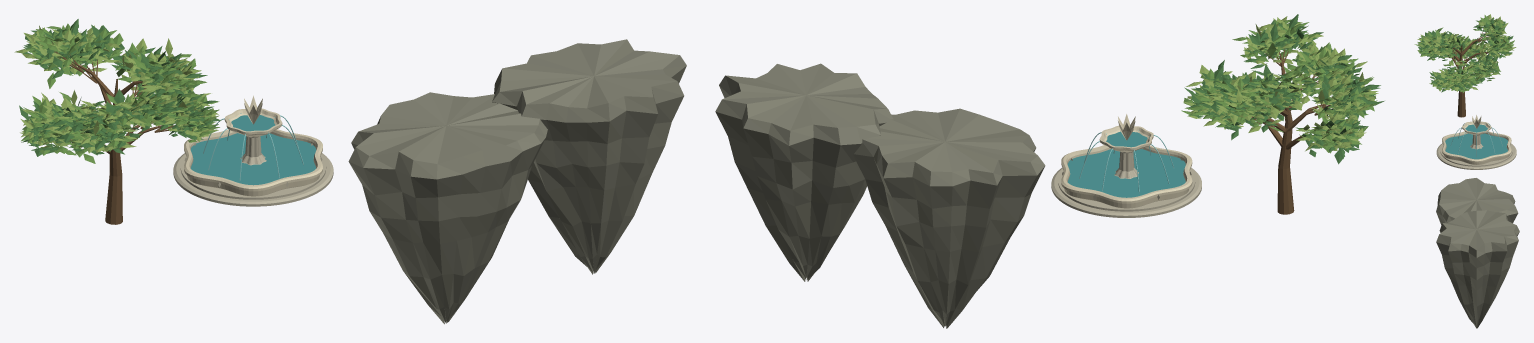
The model's file is original-world-assets.obj.
3 renders of one model, left to right at view 1: azimuth 30°, elevation 25°; view 2: azimuth 150°, elevation 25°; view 3: azimuth 270°, elevation 25°, orthographic. The views are drawn at different scales.
Parts seen in each view (by area): view 1: CliffShell_A, CliffShell_B, LeafSprays1, LeafSprays2, LeafSprays3, BasinWater, ScallopedBasin, TerracedPlinth, BranchingTrunk, UpperChalice, UpperWater, CarvedPedestal; view 2: CliffShell_A, CliffShell_B, LeafSprays3, LeafSprays1, LeafSprays2, BasinWater, ScallopedBasin, TerracedPlinth, BranchingTrunk, UpperChalice; view 3: CliffShell_B, CliffShell_A, LeafSprays2, LeafSprays3, LeafSprays1, BasinWater, ScallopedBasin, TerracedPlinth, BranchingTrunk, UpperChalice, UpperWater, CarvedPedestal.
Part boxes in pixels (x1,y1,x2,y2): CliffShell_A: [348, 92, 547, 324]; CliffShell_B: [492, 39, 686, 274]; LeafSprays1: [19, 19, 219, 156]; LeafSprays2: [21, 23, 220, 163]; LeafSprays3: [14, 25, 219, 153]; BasinWater: [190, 133, 316, 185]; ScallopedBasin: [184, 129, 322, 196]; TerracedPlinth: [173, 153, 333, 206]; BranchingTrunk: [54, 51, 174, 224]; UpperChalice: [224, 108, 282, 136]; UpperWater: [231, 115, 275, 131]; CarvedPedestal: [240, 136, 266, 165]; CliffShell_A: [853, 108, 1045, 328]; CliffShell_B: [715, 63, 893, 281]; LeafSprays3: [1183, 16, 1378, 151]; LeafSprays1: [1184, 14, 1384, 164]; LeafSprays2: [1181, 19, 1379, 153]; BasinWater: [1067, 149, 1185, 197]; ScallopedBasin: [1061, 145, 1192, 208]; TerracedPlinth: [1051, 167, 1201, 217]; BranchingTrunk: [1244, 44, 1333, 214]; UpperChalice: [1099, 125, 1153, 152]; CliffShell_B: [1436, 210, 1519, 328]; CliffShell_A: [1436, 178, 1518, 225]; LeafSprays2: [1414, 15, 1514, 92]; LeafSprays3: [1417, 14, 1516, 91]; LeafSprays1: [1418, 18, 1513, 92]; BasinWater: [1445, 133, 1507, 159]; ScallopedBasin: [1442, 131, 1511, 164]; TerracedPlinth: [1436, 143, 1516, 169]; BranchingTrunk: [1448, 31, 1491, 117]; UpperChalice: [1462, 121, 1491, 134]; UpperWater: [1465, 124, 1487, 132]; CarvedPedestal: [1470, 134, 1483, 149].
Bounding box in the file's own units: 105 × 56.4 × 28.54.
